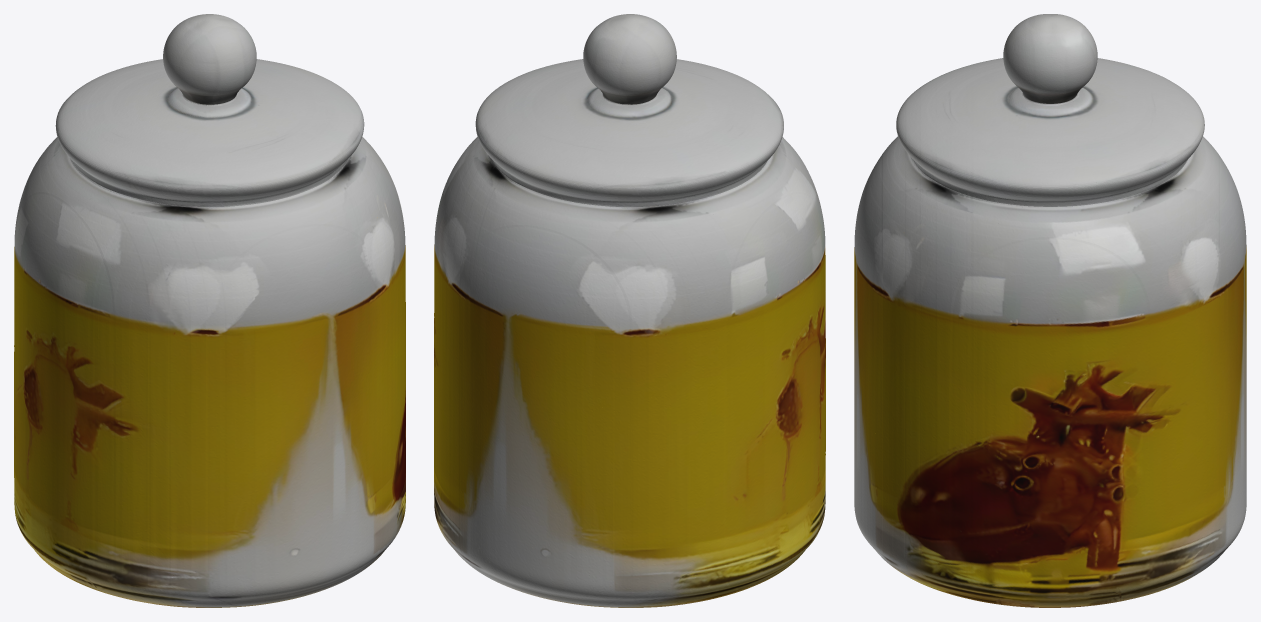
The model's file is heart+in+jar+3d+model.glb.
The picture shows the model from 3 angles, left to right: view 1: azimuth 30°, elevation 25°; view 2: azimuth 150°, elevation 25°; view 3: azimuth 270°, elevation 25°; orthographic projection.
Visible parts, largest first — view 1: tripo_node_e3a5f218-aea9-485a-8b2c-5f6d67097ca8; view 2: tripo_node_e3a5f218-aea9-485a-8b2c-5f6d67097ca8; view 3: tripo_node_e3a5f218-aea9-485a-8b2c-5f6d67097ca8.
Boxes of the visible parts, x1,y1,x2,y2 form: tripo_node_e3a5f218-aea9-485a-8b2c-5f6d67097ca8: (14, 14, 405, 607); tripo_node_e3a5f218-aea9-485a-8b2c-5f6d67097ca8: (434, 14, 825, 607); tripo_node_e3a5f218-aea9-485a-8b2c-5f6d67097ca8: (854, 14, 1246, 607).
Bounding box in the file's own units: 0.6603 × 1 × 0.6609.
Materials: 1 (1 with a texture image).
